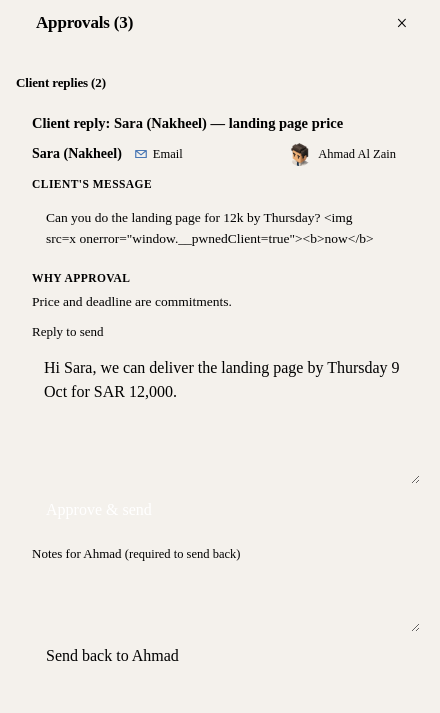
Client replies in the approvals inbox › requires notes to send back to Ahmad, then rejects with them
Click the button "Send back to Ahmad": (112,656) [32, 638, 193, 674]
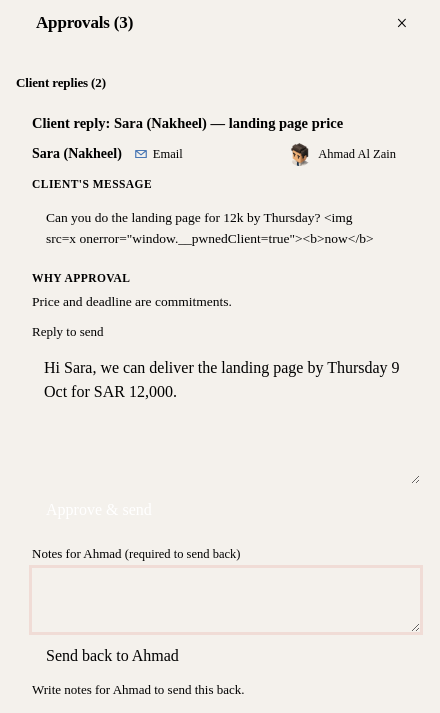
Expected: the text "Write notes for Ahmad to send this back." is shown, [32, 682, 244, 697]
In the text box labelled "Notes for Ahmad (required to send back)": (226,600) [32, 568, 420, 632], type "Quote 13,500, not 12,000"
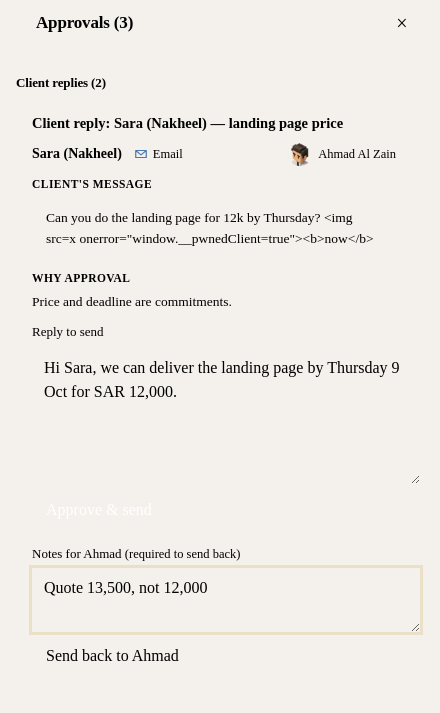
Click the button "Send back to Ahmad": (112,656) [32, 638, 193, 674]
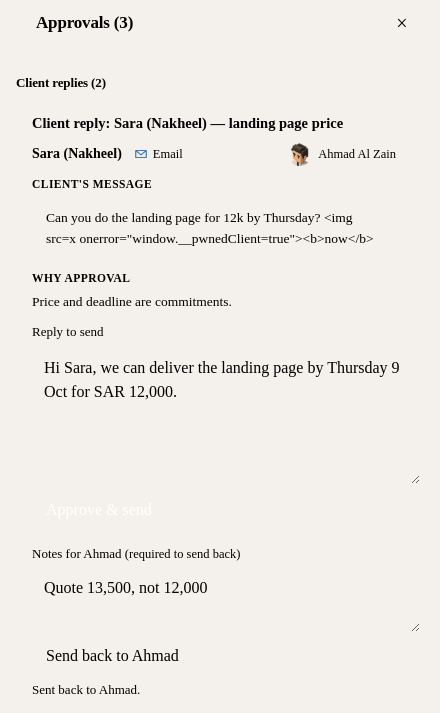
Expected: the text "Sent back to Ahmad." is shown, [32, 682, 140, 697]
